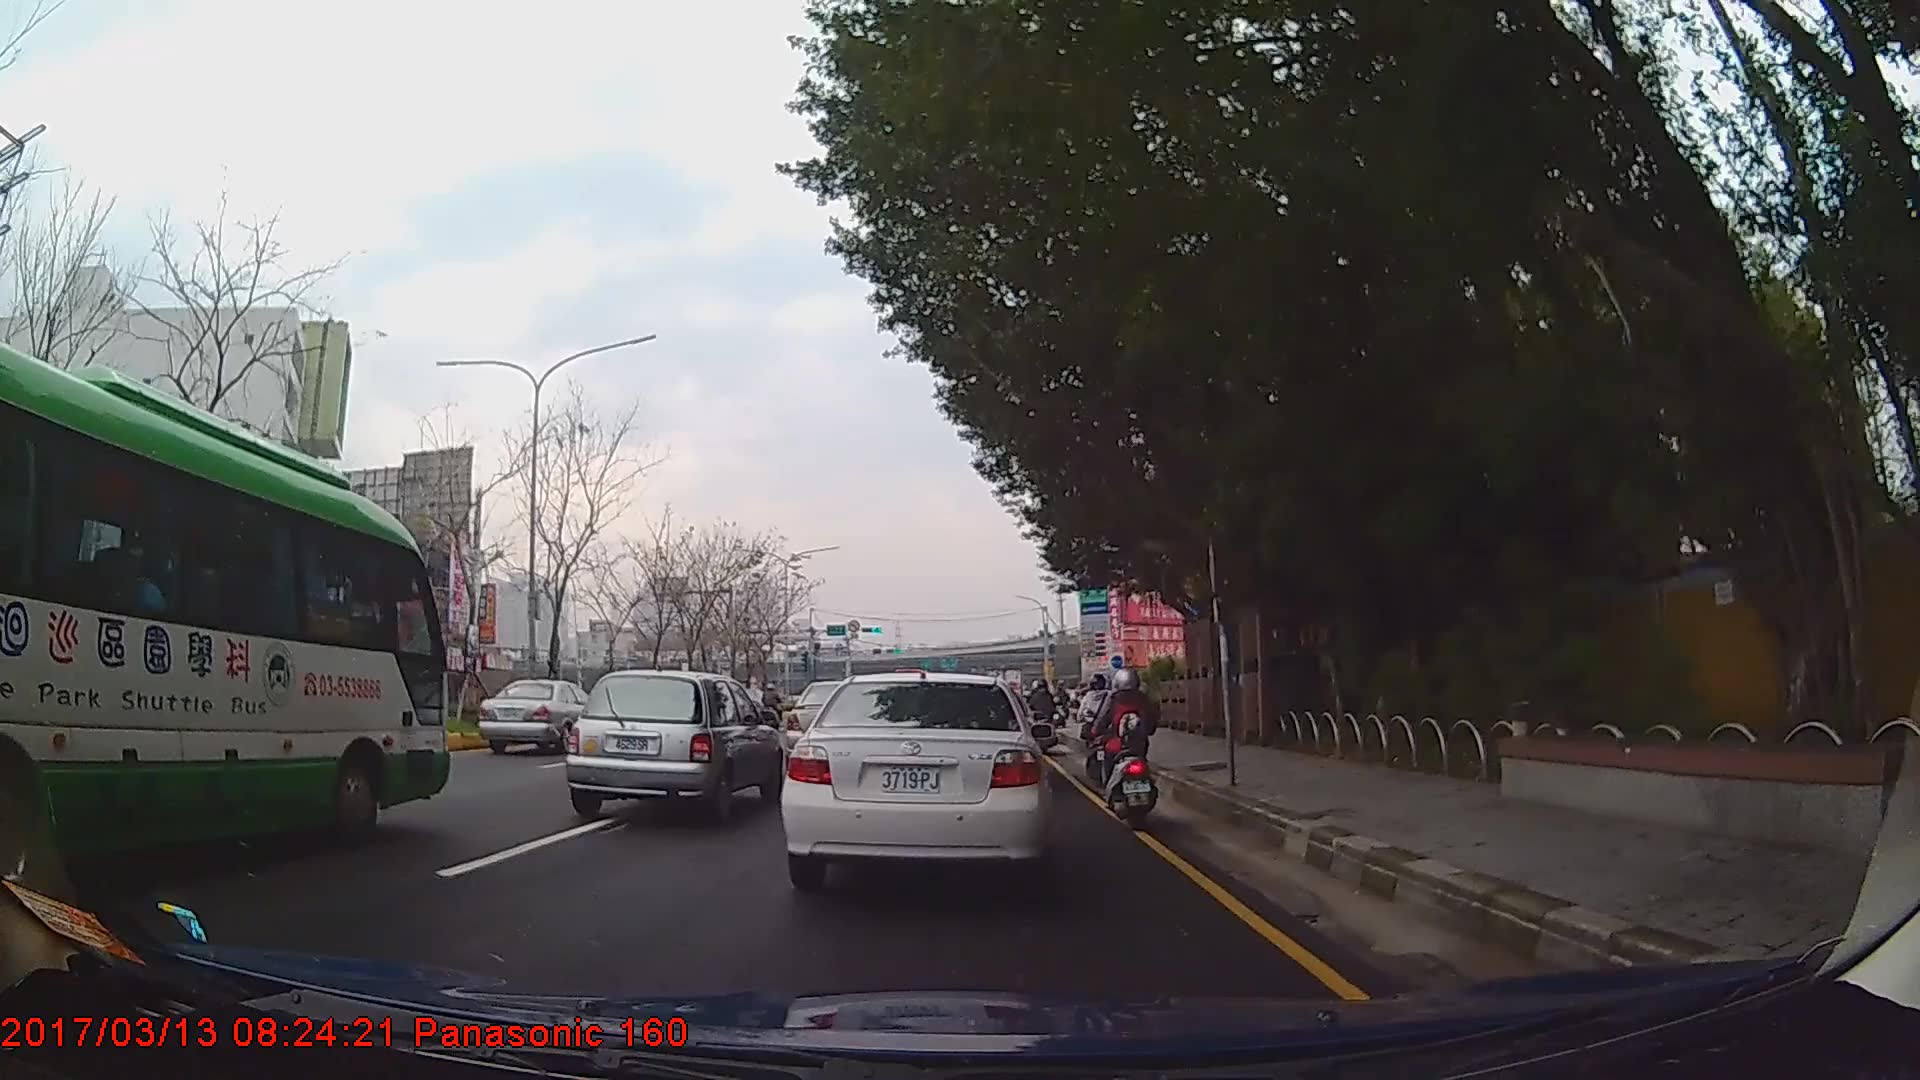rider: (1103, 661, 1163, 820), (1076, 674, 1122, 790), (1032, 676, 1058, 736)
vehicle: (0, 336, 449, 886), (779, 669, 1050, 889), (563, 665, 784, 820), (479, 676, 601, 752)
